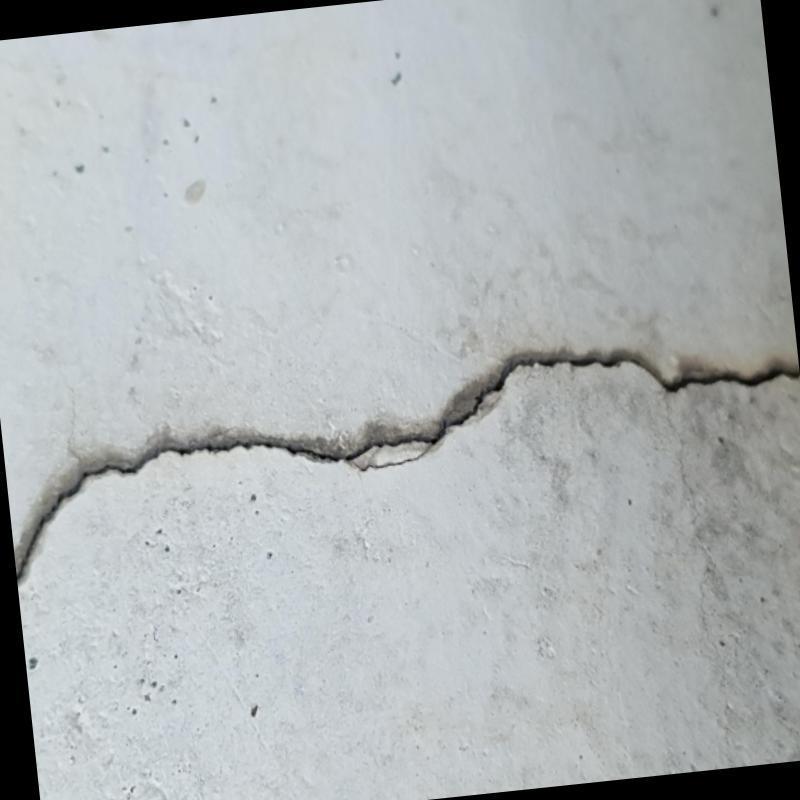pothole: (16, 337, 798, 596)
